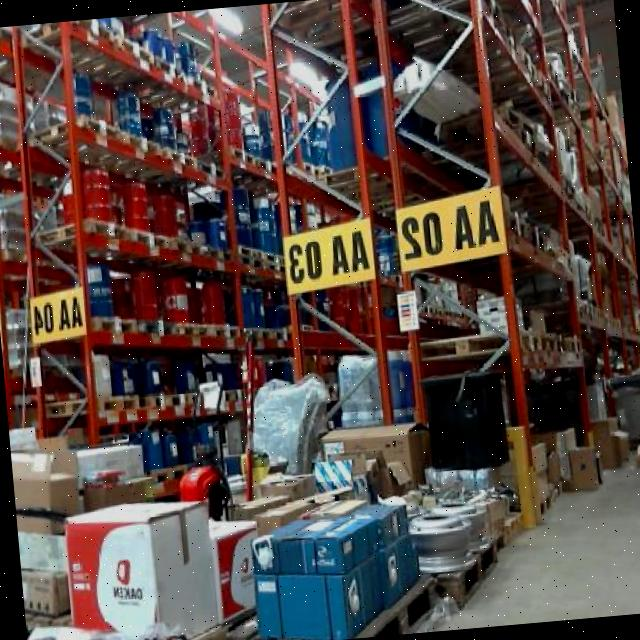pallet: (436, 531, 509, 621), (77, 211, 137, 251), (514, 324, 580, 358), (129, 221, 182, 259), (234, 241, 285, 276), (177, 236, 231, 268), (166, 319, 234, 339), (89, 311, 140, 337), (142, 387, 190, 412), (93, 391, 146, 413), (232, 320, 281, 340)
